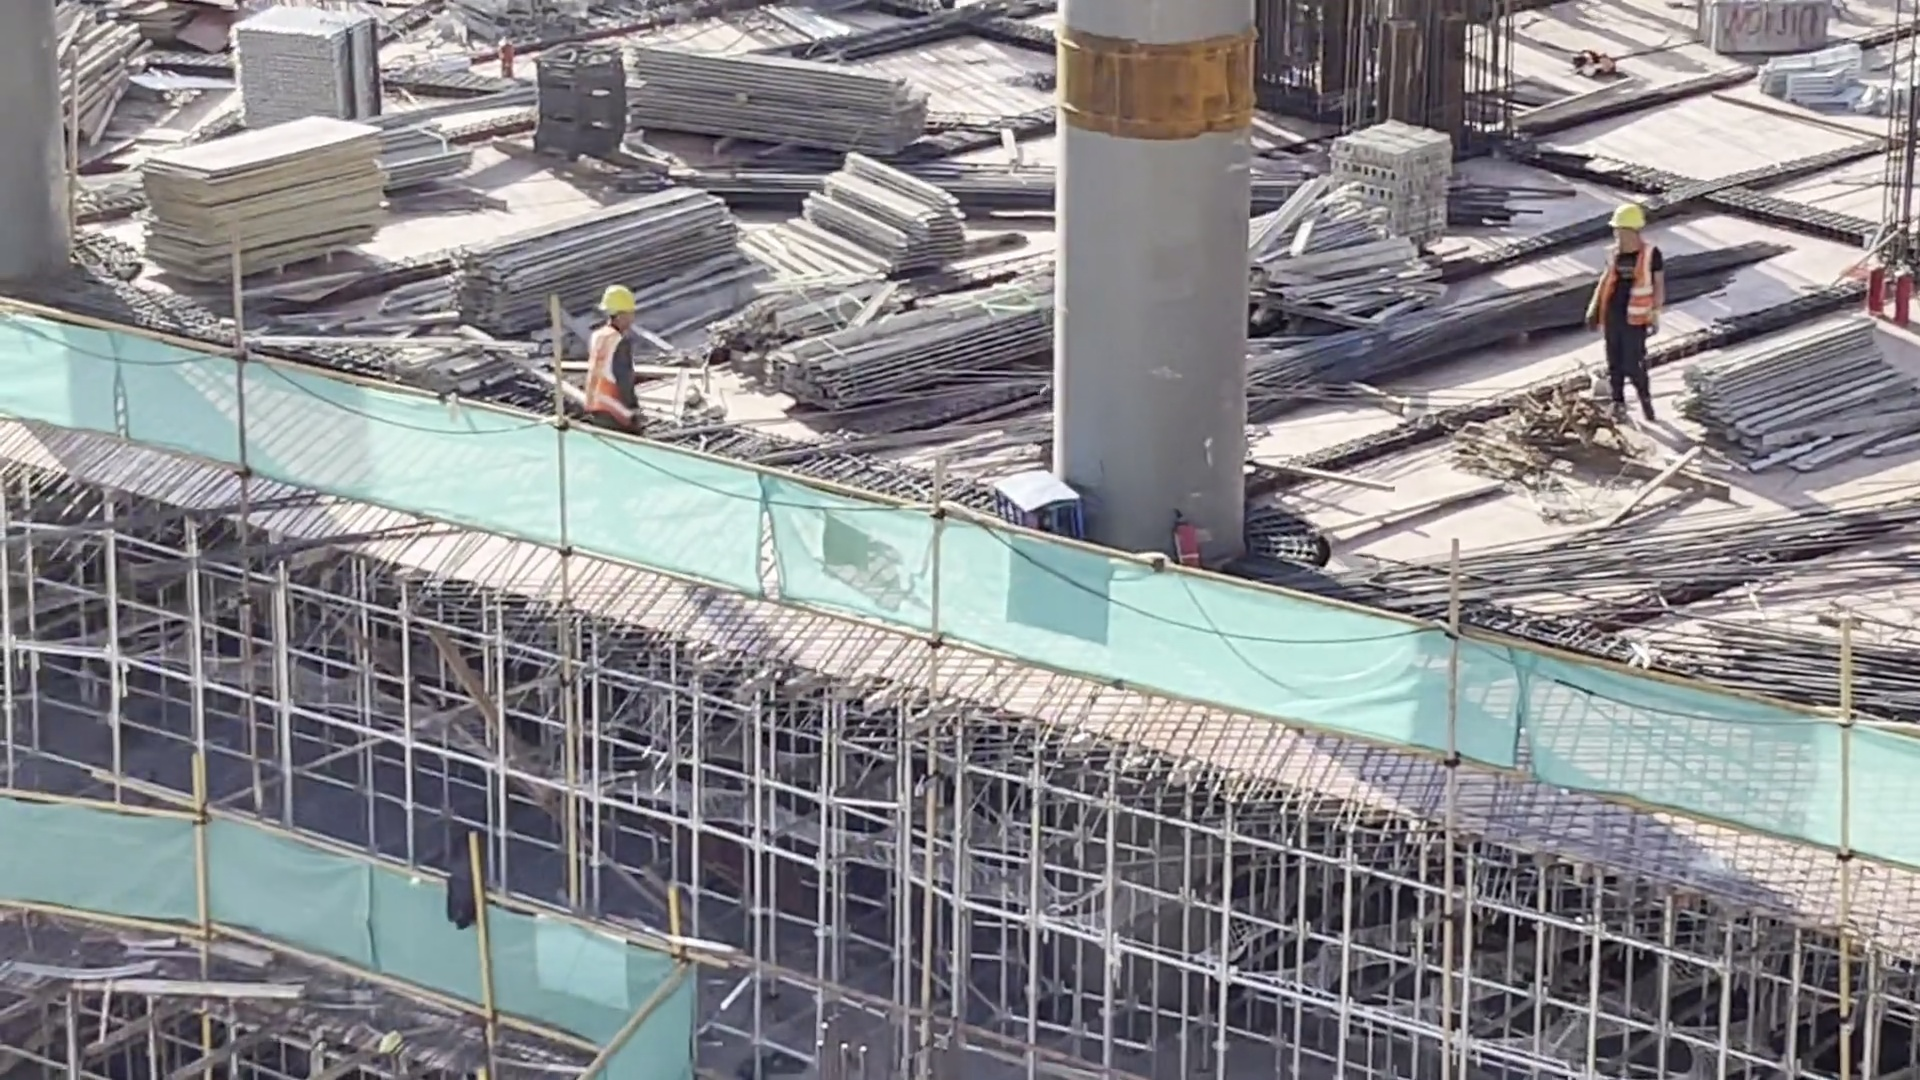board: (128, 95, 396, 272)
helmet: (596, 285, 638, 315), (1612, 201, 1648, 231)
person: (1591, 187, 1669, 426), (578, 269, 645, 432)
vest: (1593, 250, 1672, 334), (579, 323, 641, 408)
wood: (626, 28, 930, 169), (434, 193, 738, 332), (773, 272, 1045, 406), (1695, 293, 1919, 449), (815, 143, 971, 280)
